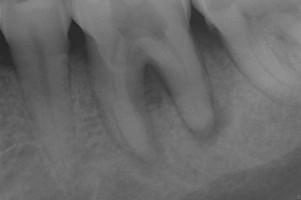Endo-Periodontal Lesion: (139, 61, 176, 108)
Furcation Involvement: (127, 110, 167, 180), (189, 95, 232, 148)
